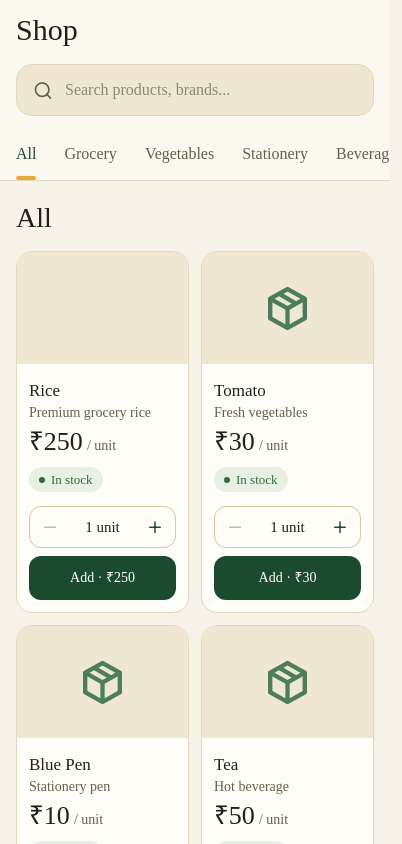
Scenario: ShopScreen › searches product names and descriptions and can clear an empty search
The image size is (402, 844).
Expected: the text "Rice" is shown, [29,381,60,400]
Type "beverage" into the field labelled "Search products". click: [211, 90]
box: [65,73,357,107]
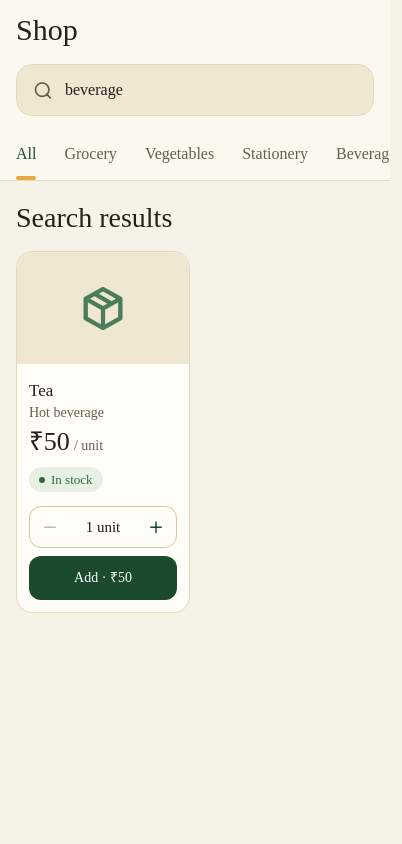
Expected: the text "Tea" is shown, [29,381,53,400]
Result: the text "Rice" is gone
Replace the text in the field named "Search products" with "not-a-product". click: [211, 90]
box: [65,73,357,107]
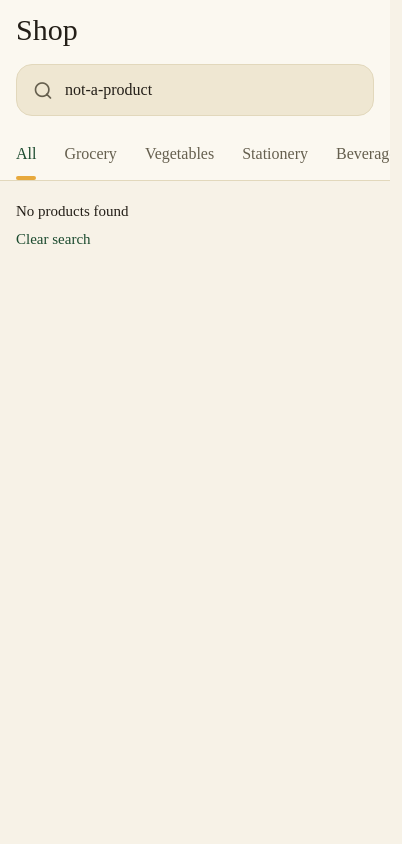
Result: the text "No products found" is shown at [16,203,128,219]
Click the text "Clear search". click: [53, 239]
box: [16,231,90,247]
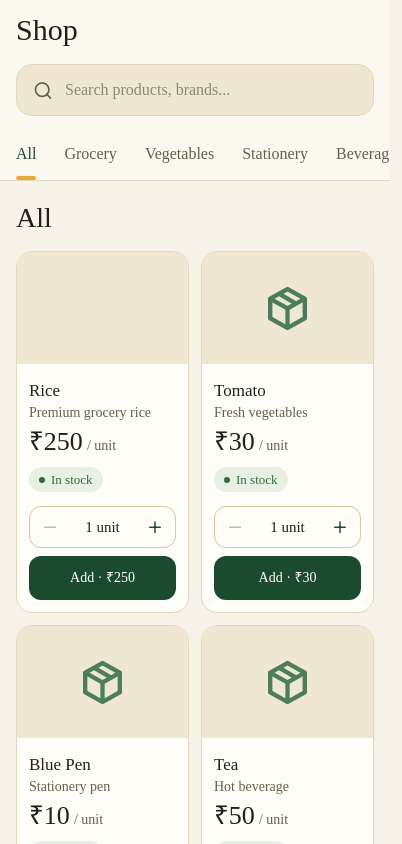
Result: the text "Rice" is shown at [29,381,60,400]
